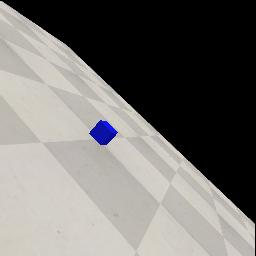box: (89, 120, 118, 145)
